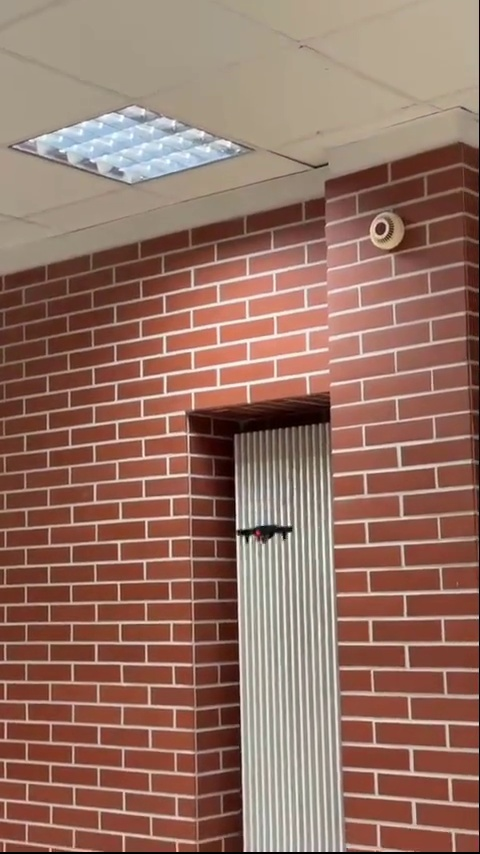drone: (237, 525, 299, 548)
